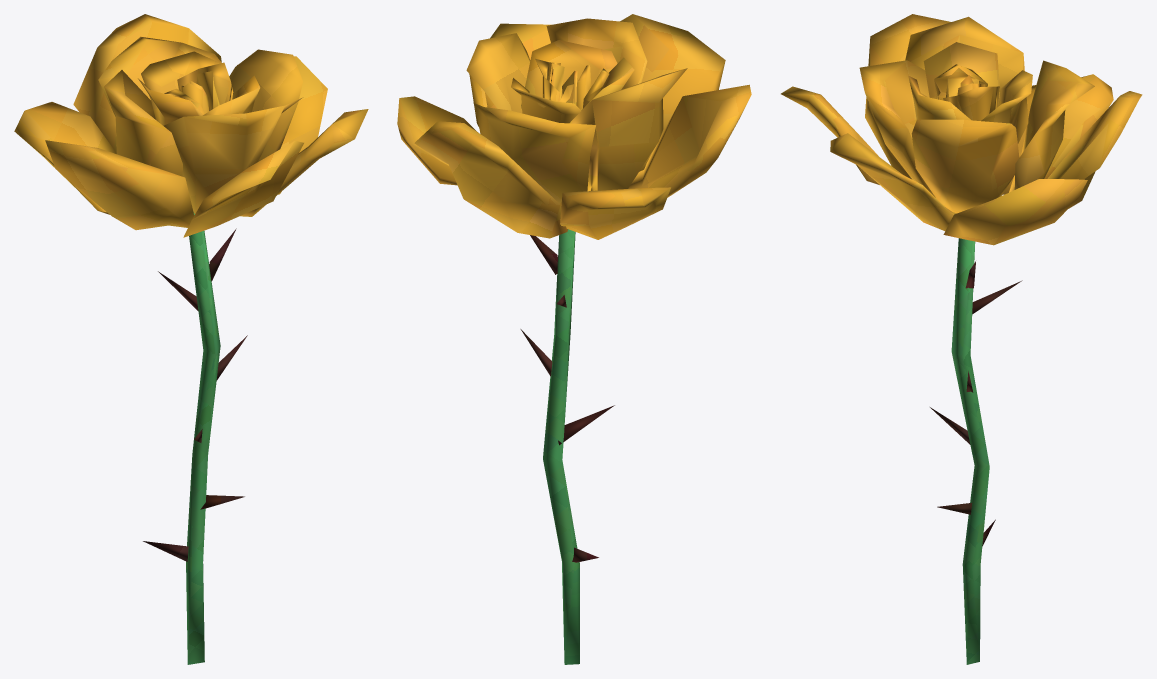
File: yellow_rose.fbx
3 views of the same model, side by side, from view 1: azimuth 30°, elevation 25°; view 2: azimuth 150°, elevation 25°; view 3: azimuth 270°, elevation 25° (orthographic).
Parts seen in each view (by area): view 1: yellow_rose; view 2: yellow_rose; view 3: yellow_rose.
Part boxes in pixels (x1,y1,x2,y2): yellow_rose: (14, 14, 368, 664); yellow_rose: (397, 14, 751, 664); yellow_rose: (781, 14, 1142, 664).
Size of the model in its own units: 26.1 by 50.48 by 27.65.
